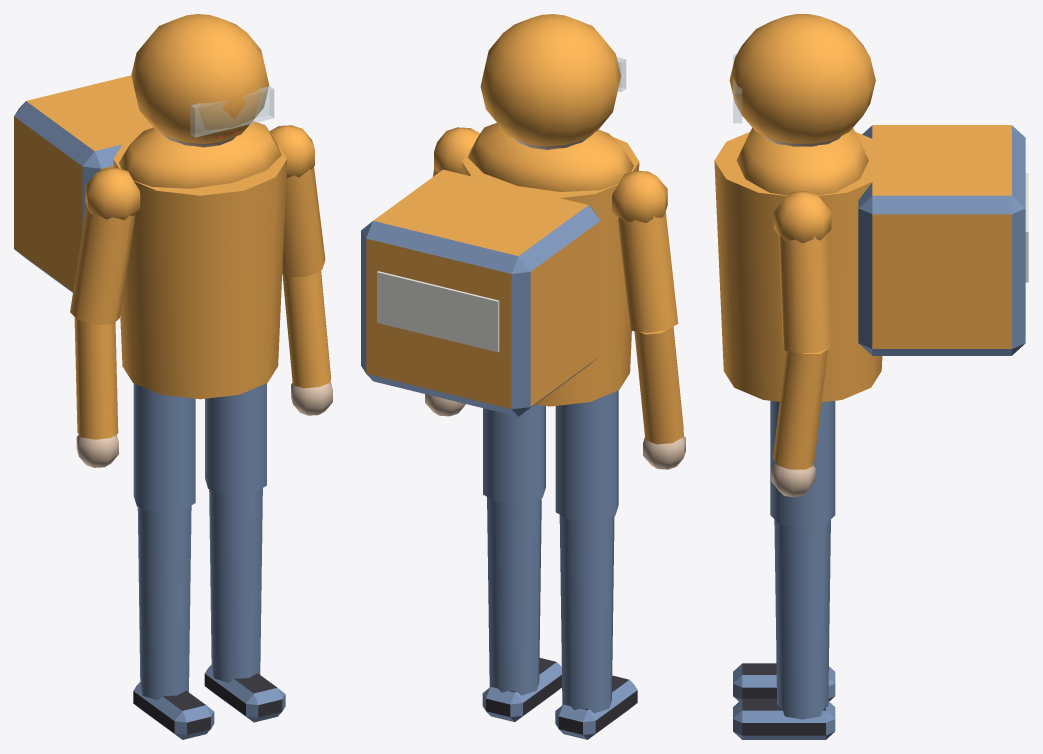
File: SM_NPC_Rider.fbx
3 views of the same model, side by side, from view 1: azimuth 30°, elevation 25°; view 2: azimuth 150°, elevation 25°; view 3: azimuth 270°, elevation 25° (orthographic).
Visible parts, largest first — view 1: SM_NPC_Rider; view 2: SM_NPC_Rider; view 3: SM_NPC_Rider.
Part boxes in pixels (x1,y1,x2,y2): SM_NPC_Rider: (14, 14, 332, 739); SM_NPC_Rider: (361, 14, 685, 739); SM_NPC_Rider: (714, 14, 1028, 739).
Bounding box in the file's own units: 0.6351 × 1.65 × 0.676.
